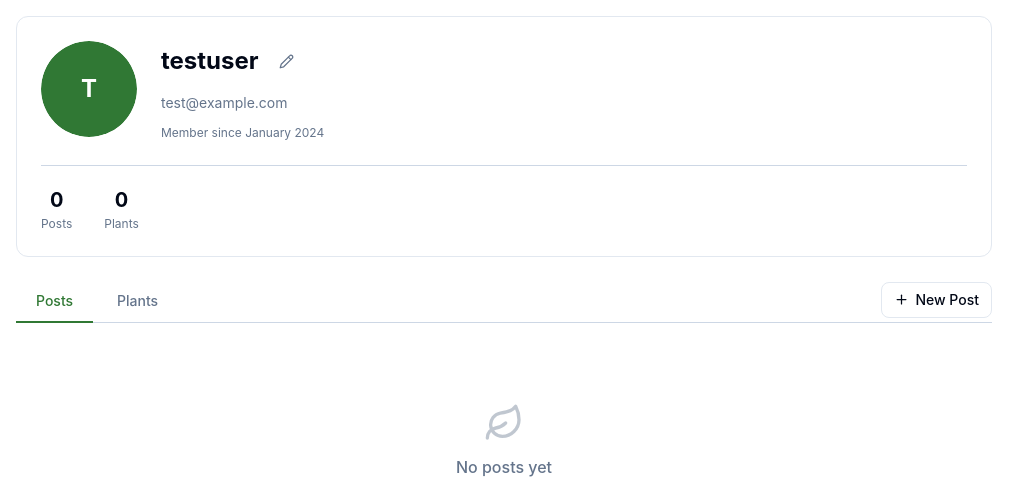
it: ProfilePage › Edit username › cancels edit and restores original username when X is clicked
Click the button named "edit username" at (286, 61), box [266,41,306,81]
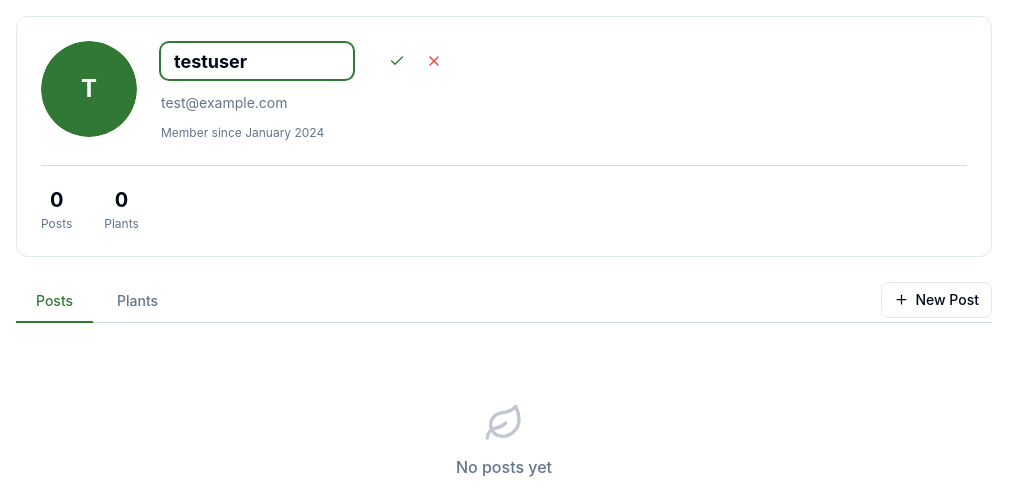
Replace the text in the field with "something-else" at (257, 61), box [161,43,353,79]
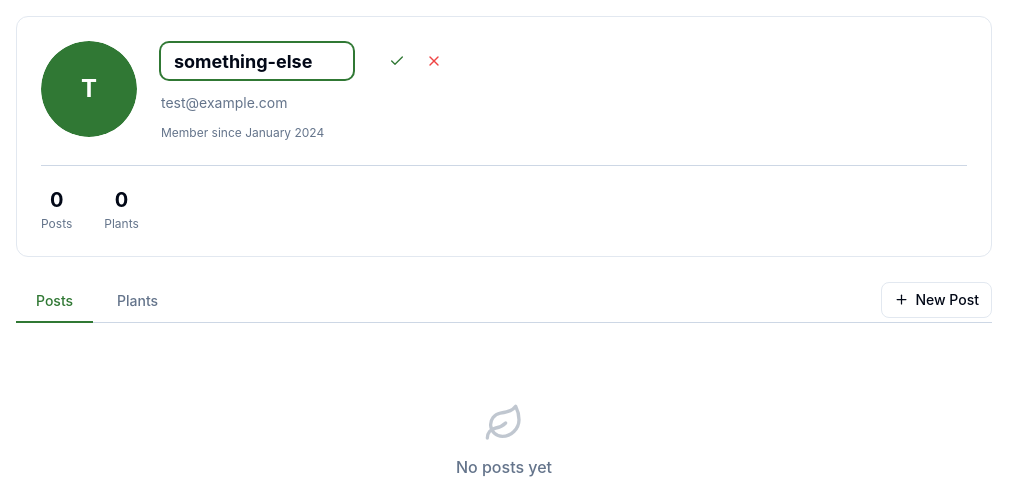
Click the button named "cancel edit" at (434, 61), box [419,41,449,81]
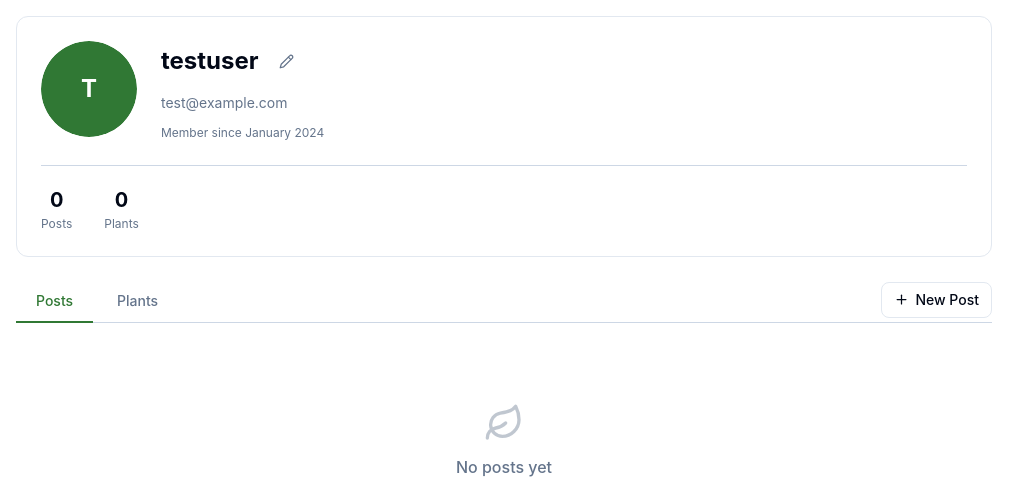
Expected: the field is gone
Expected: the heading "testuser" is shown, [161,45,258,77]
